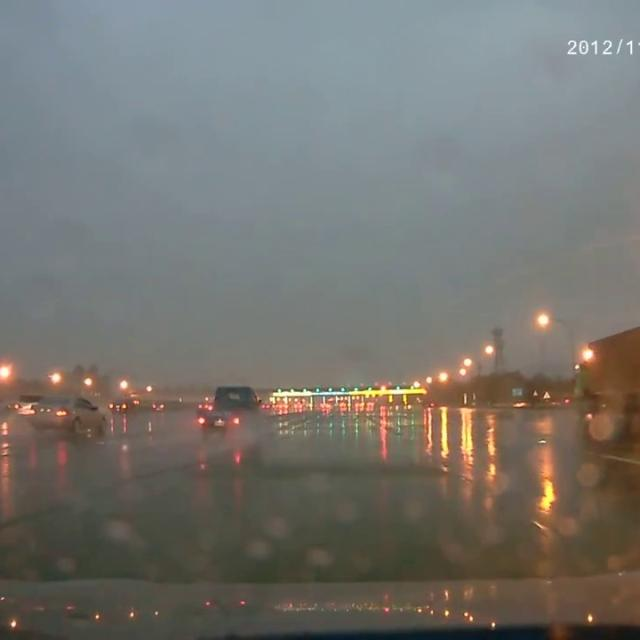Car: (38, 394, 106, 436), (18, 393, 49, 423), (147, 399, 168, 413), (110, 400, 129, 411)
